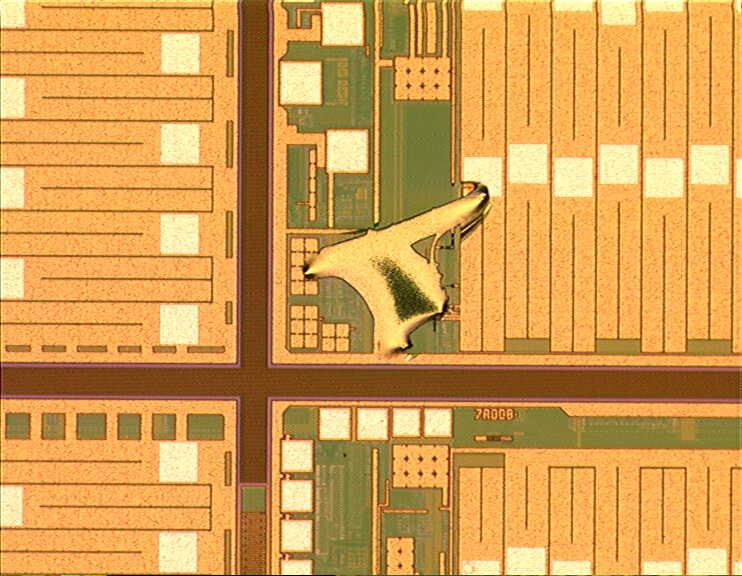BLOCK ETCH: (301, 178, 497, 367)
